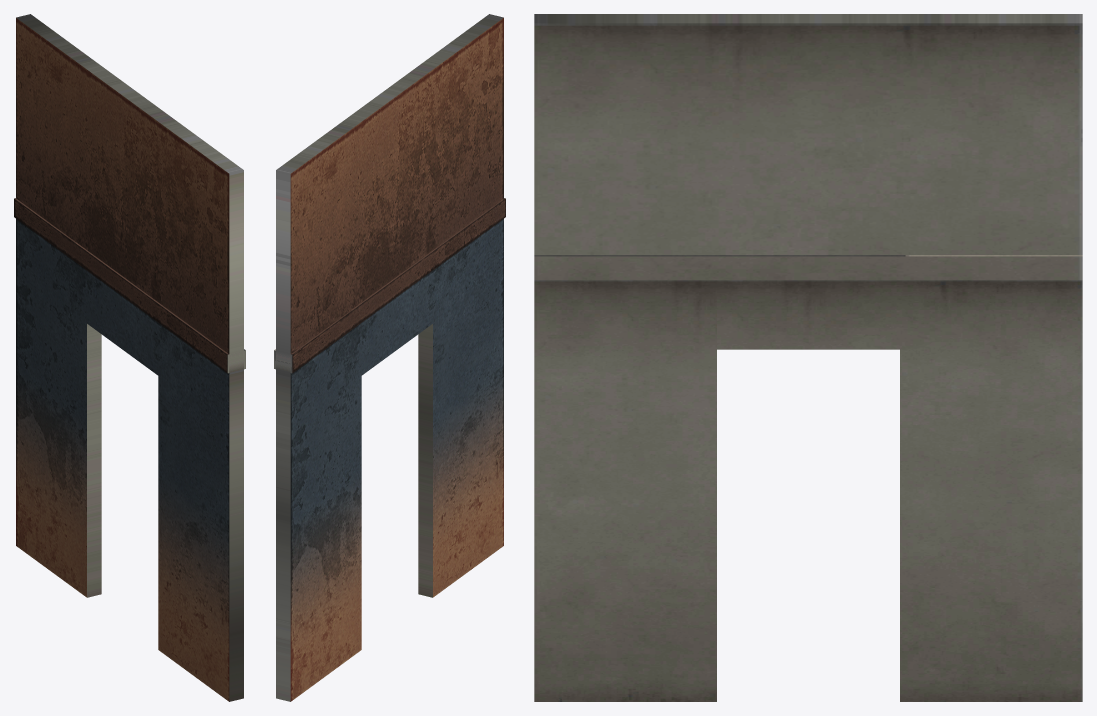
File: Door_Wall3.fbx
3 views of the same model, side by side, from view 1: azimuth 30°, elevation 25°; view 2: azimuth 150°, elevation 25°; view 3: azimuth 270°, elevation 25° (orthographic). The views are drawn at different scales.
Visible parts, largest first — view 1: Door_Wall; view 2: Door_Wall; view 3: Door_Wall.
Boxes of the visible parts, left/top/right/bottom form: Door_Wall: left=14, top=14, right=245, bottom=701; Door_Wall: left=274, top=14, right=505, bottom=701; Door_Wall: left=534, top=14, right=1082, bottom=701.
Bounding box in the file's own units: 0.2954 × 8.13 × 5.96.
